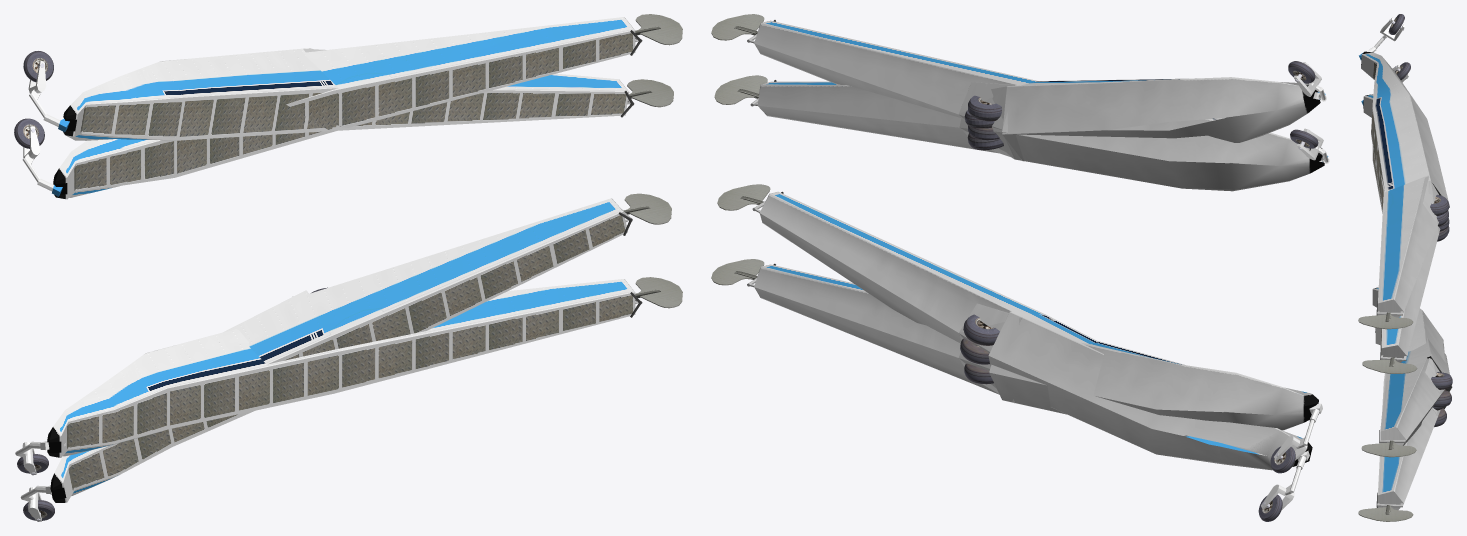
Rendered from c172p-pontoon-damage.gltf.
The picture shows the model from 3 angles, left to right: view 1: azimuth 30°, elevation 25°; view 2: azimuth 150°, elevation 25°; view 3: azimuth 270°, elevation 25°; orthographic projection. The views are drawn at different scales.
Parts seen in each view (by area): view 1: L-FloatOD, R-FloatOD, L-FloatOB, R-FloatOB, LHrudderB, RHrudderD, LHrudderD, RHrudderB, RdamperOB, RdamperOD; view 2: L-FloatOB, R-FloatOB, R-FloatOD, L-FloatOD, R-FloatCB, L-FloatCB, LRwheelOB, RHrudderB, RHrudderD, LHrudderB, LHrudderD, RRwheelOD (+4 smaller); view 3: R-FloatOB, R-FloatOD, L-FloatOB, L-FloatOD, R-FloatCB, LHrudderB, LHrudderD, RHrudderD, RHrudderB, LRwheelOB, RdamperOB, RRwheelOD (+5 smaller).
Boxes of the visible parts, left/top/right/bottom form: L-FloatOD: left=47, top=279, right=642, bottom=457; R-FloatOD: left=53, top=17, right=642, bottom=199; L-FloatOB: left=50, top=198, right=632, bottom=502; R-FloatOB: left=63, top=48, right=634, bottom=140; LHrudderB: left=623, top=193, right=671, bottom=224; RHrudderD: left=635, top=14, right=682, bottom=45; LHrudderD: left=635, top=277, right=682, bottom=308; RHrudderB: left=627, top=79, right=673, bottom=107; RdamperOB: left=23, top=51, right=53, bottom=93; RdamperOD: left=14, top=118, right=44, bottom=158; L-FloatOB: left=752, top=191, right=1312, bottom=470; R-FloatOB: left=750, top=77, right=1320, bottom=160; R-FloatOD: left=747, top=20, right=1324, bottom=191; L-FloatOD: left=747, top=263, right=1318, bottom=436; R-FloatCB: left=959, top=77, right=1319, bottom=161; L-FloatCB: left=959, top=303, right=1311, bottom=469; LRwheelOB: left=960, top=314, right=999, bottom=364; RHrudderB: left=714, top=75, right=767, bottom=104; RHrudderD: left=711, top=14, right=764, bottom=40; LHrudderB: left=717, top=184, right=770, bottom=210; LHrudderD: left=711, top=259, right=764, bottom=285; RRwheelOD: left=968, top=95, right=1001, bottom=140; R-FloatOB: left=1361, top=51, right=1449, bottom=362; R-FloatOD: left=1363, top=94, right=1442, bottom=317; L-FloatOB: left=1375, top=328, right=1452, bottom=445; L-FloatOD: left=1372, top=287, right=1446, bottom=509; R-FloatCB: left=1361, top=58, right=1449, bottom=233; LHrudderB: left=1361, top=440, right=1416, bottom=457; LHrudderD: left=1358, top=505, right=1413, bottom=521; RHrudderD: left=1358, top=312, right=1413, bottom=329; RHrudderB: left=1362, top=357, right=1417, bottom=373; LRwheelOB: left=1431, top=372, right=1452, bottom=406; RdamperOB: left=1380, top=14, right=1404, bottom=41; RRwheelOD: left=1430, top=194, right=1449, bottom=231.
Size of the model in its own units: 6.05 by 4.29 by 1.03.
